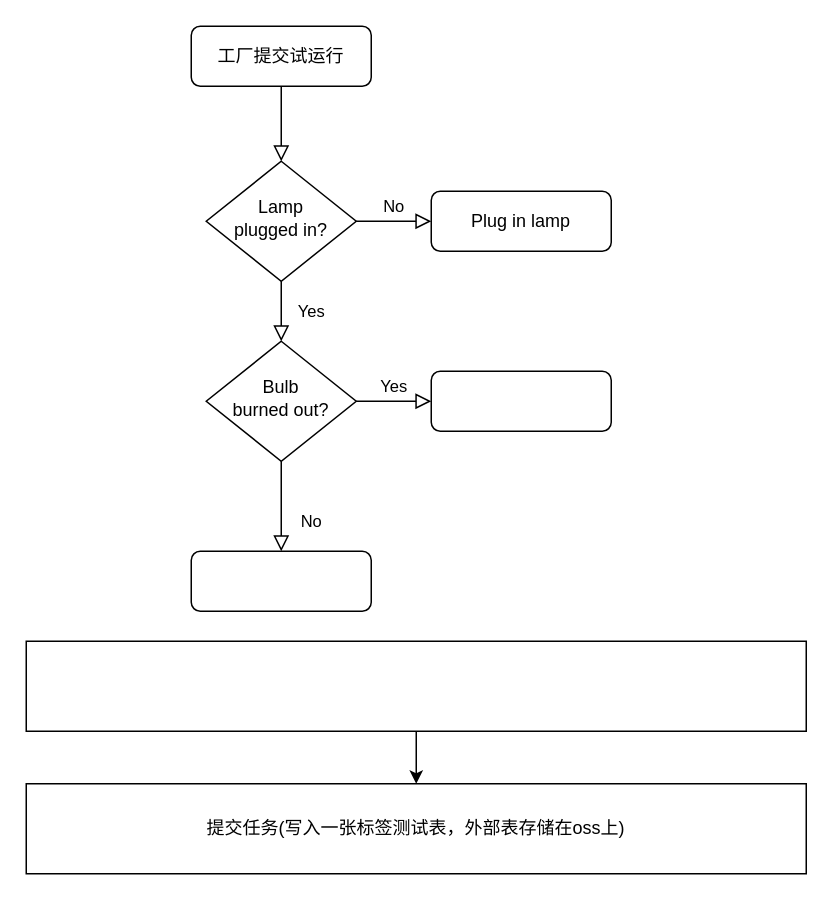
Some shapes in this 833 by 900 pixel diagram are drawn without their labels. The shapes that lost their labels are listed below. From the top down, each one's box as (x1, y1, x2, y2) in pixels, then its label:
(430, 370, 611, 431): Replace Bulb
(190, 550, 371, 611): Repair Lamp
(25, 640, 806, 731): 试运行方案（提交sql，生成instance）
